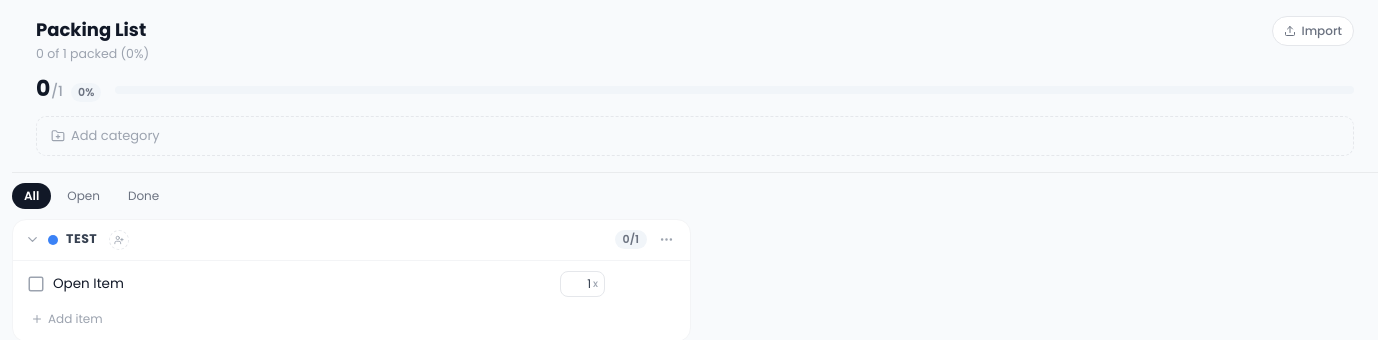
it: PackingListPanel › FE-COMP-PACKING-020: renders empty filter message when filter yields nothing
The image size is (1378, 340).
Click the button "Done" at (144, 196), box [116,183,171,209]
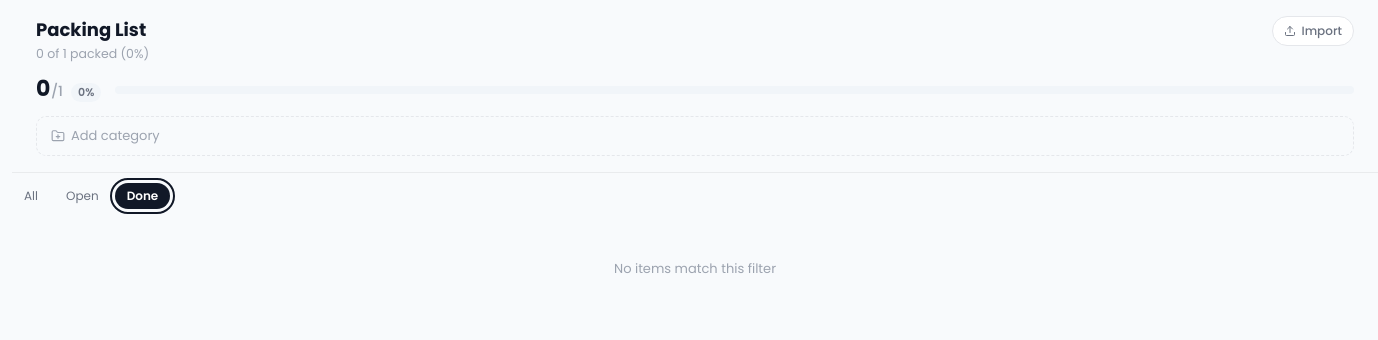
expect the text "No items match this filter" is shown: met, box [614,259,776,278]
